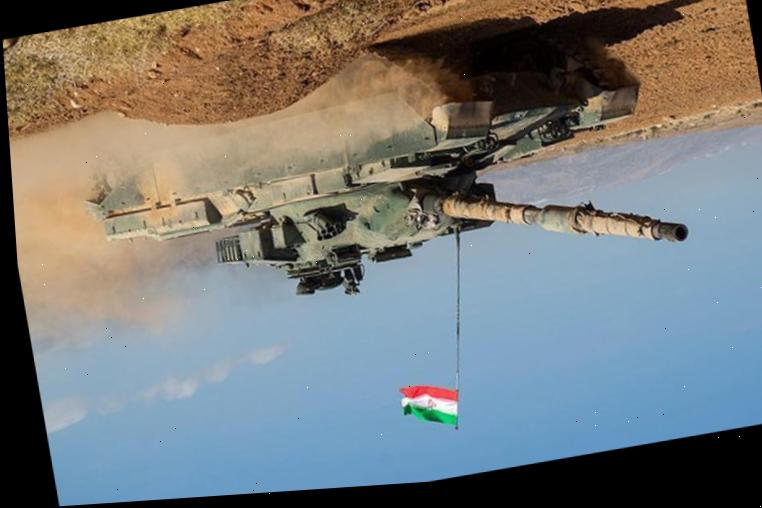tank: (57, 0, 699, 352)
